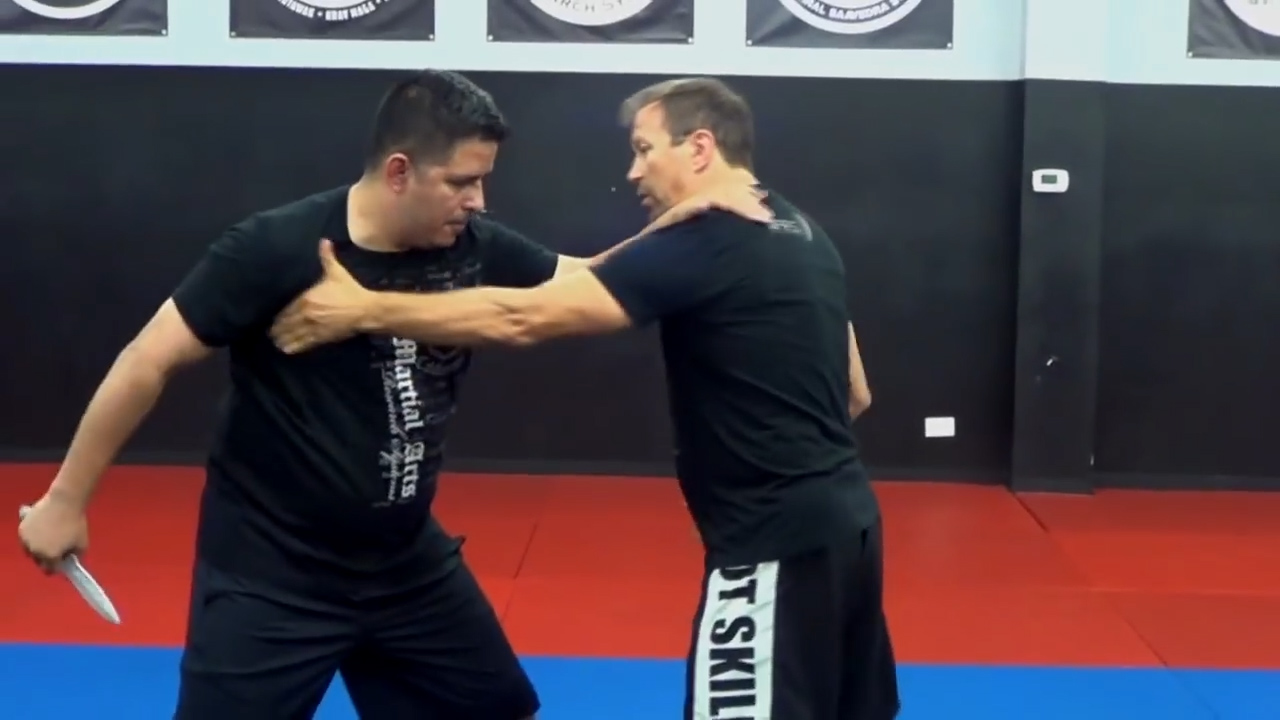knife: (11, 497, 125, 636)
